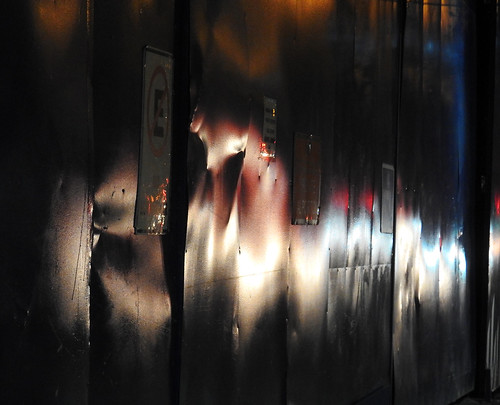sign: (128, 46, 185, 237), (290, 132, 324, 230), (258, 92, 284, 166), (377, 156, 399, 235)
